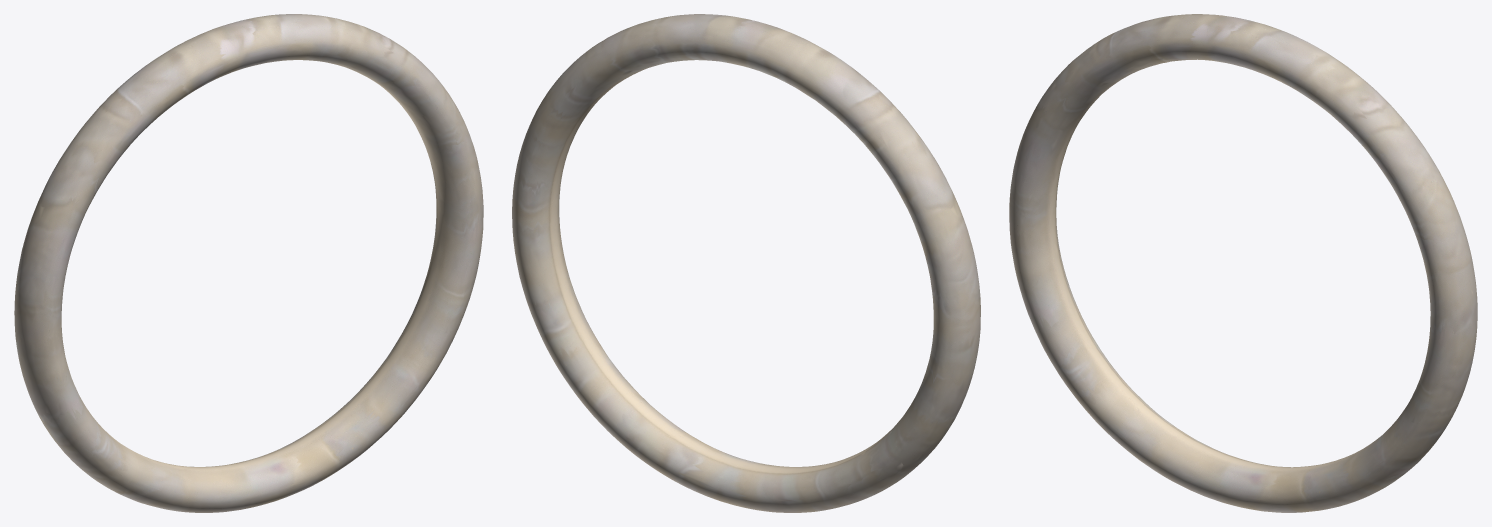
File: ring_pearl_game.glb
The picture shows the model from 3 angles, left to right: view 1: azimuth 30°, elevation 25°; view 2: azimuth 150°, elevation 25°; view 3: azimuth 330°, elevation 25°; orthographic projection.
Parts seen in each view (by area): view 1: Mesh_0; view 2: Mesh_0; view 3: Mesh_0.
Boxes of the visible parts, x1=… form: Mesh_0: x1=14, y1=14, x2=483, y2=512; Mesh_0: x1=512, y1=14, x2=980, y2=512; Mesh_0: x1=1009, y1=14, x2=1477, y2=512.
Bounding box in the file's own units: 2.18 × 2.18 × 0.2291.
1 material, 1 textured.
